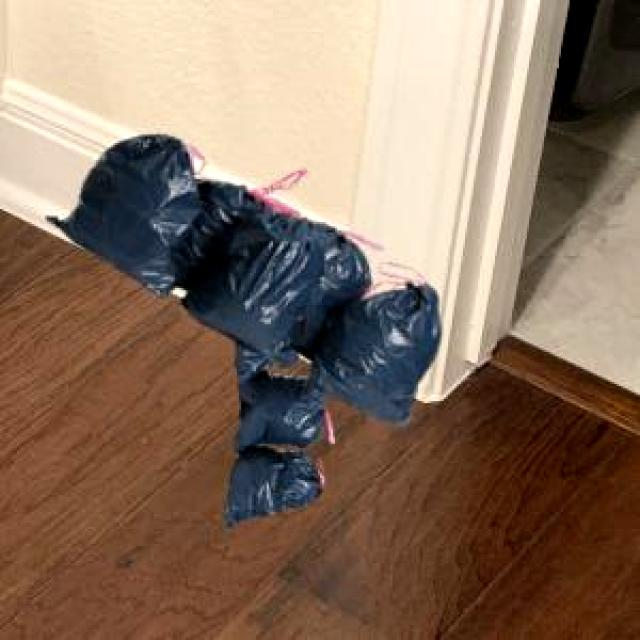Garbage_Bag: (44, 131, 436, 424), (222, 338, 326, 528)
